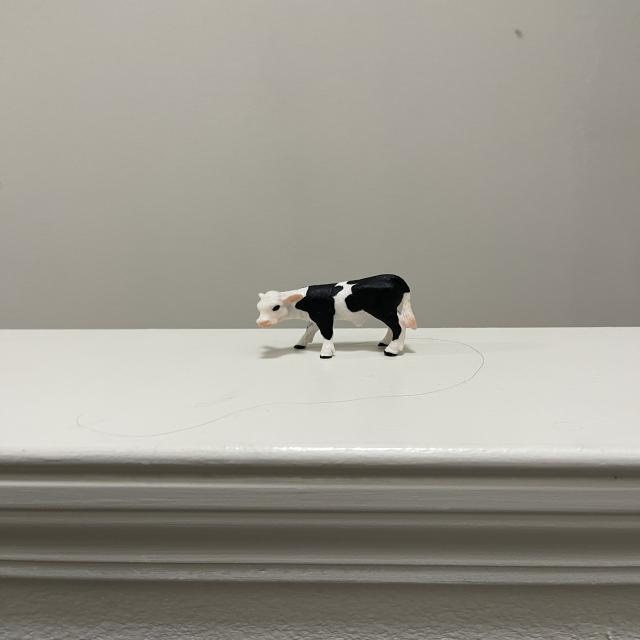cow: (254, 273, 418, 361)
